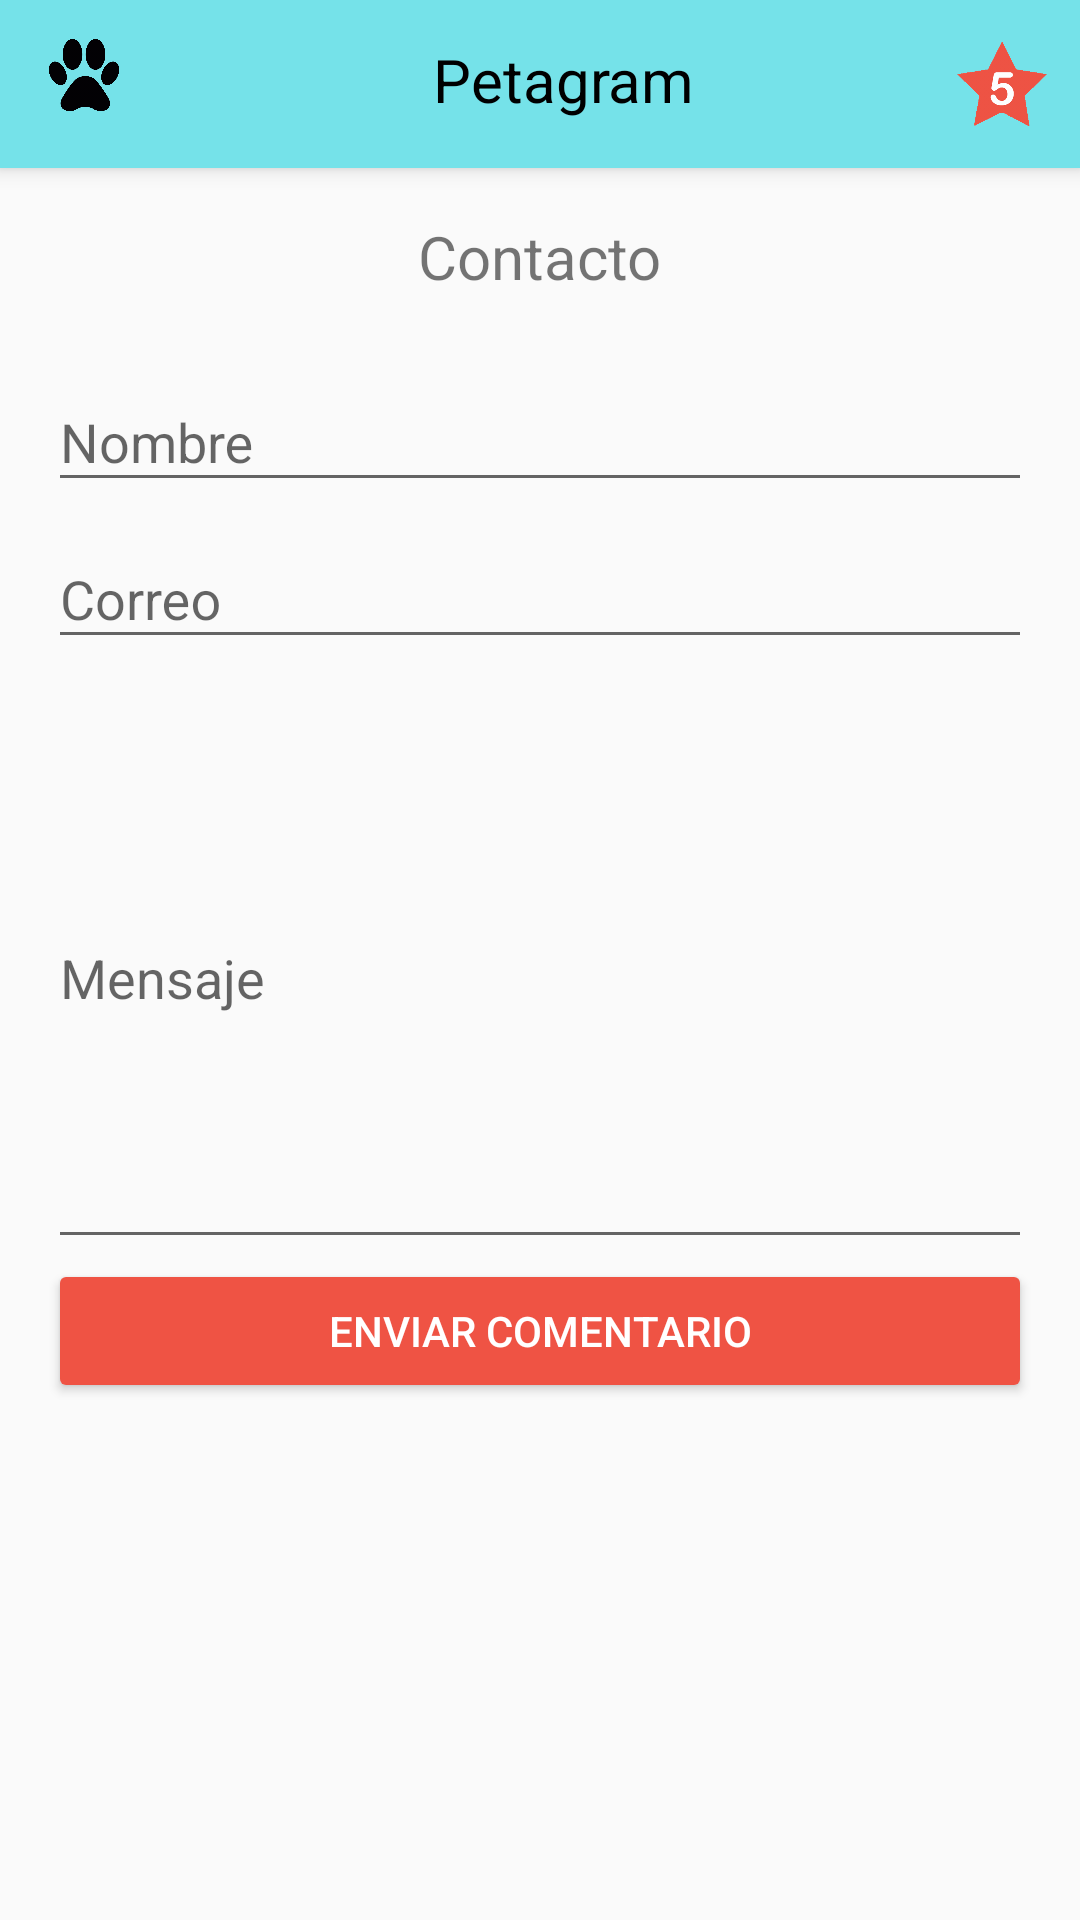

Where to tap for icons on this 1080×1920 app screen, as point (x, y):
estrella: point (1002, 84)
huella: point (84, 75)
